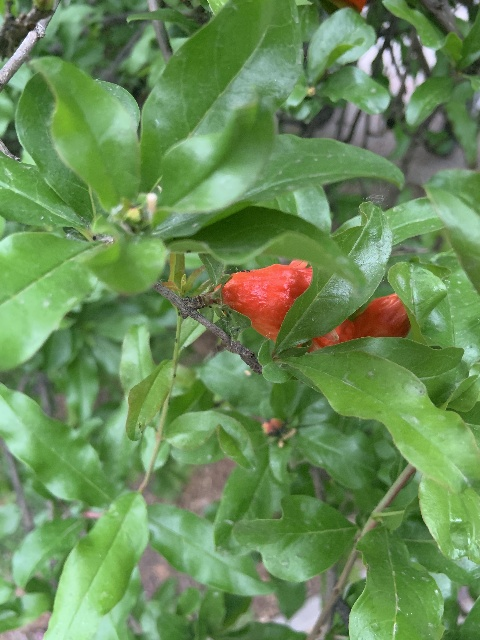bud: (352, 293, 410, 339)
flower: (222, 258, 354, 353)
